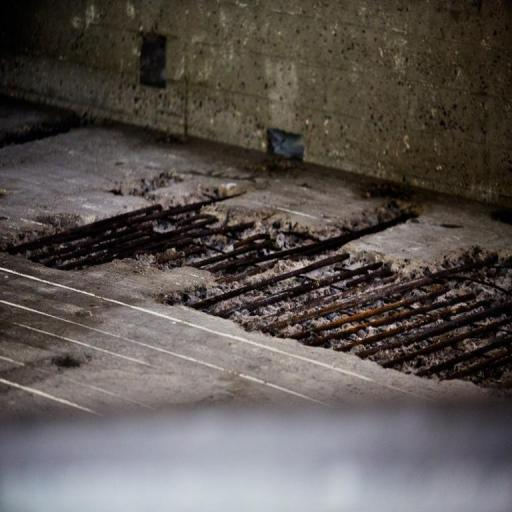spalling: (11, 160, 505, 395)
